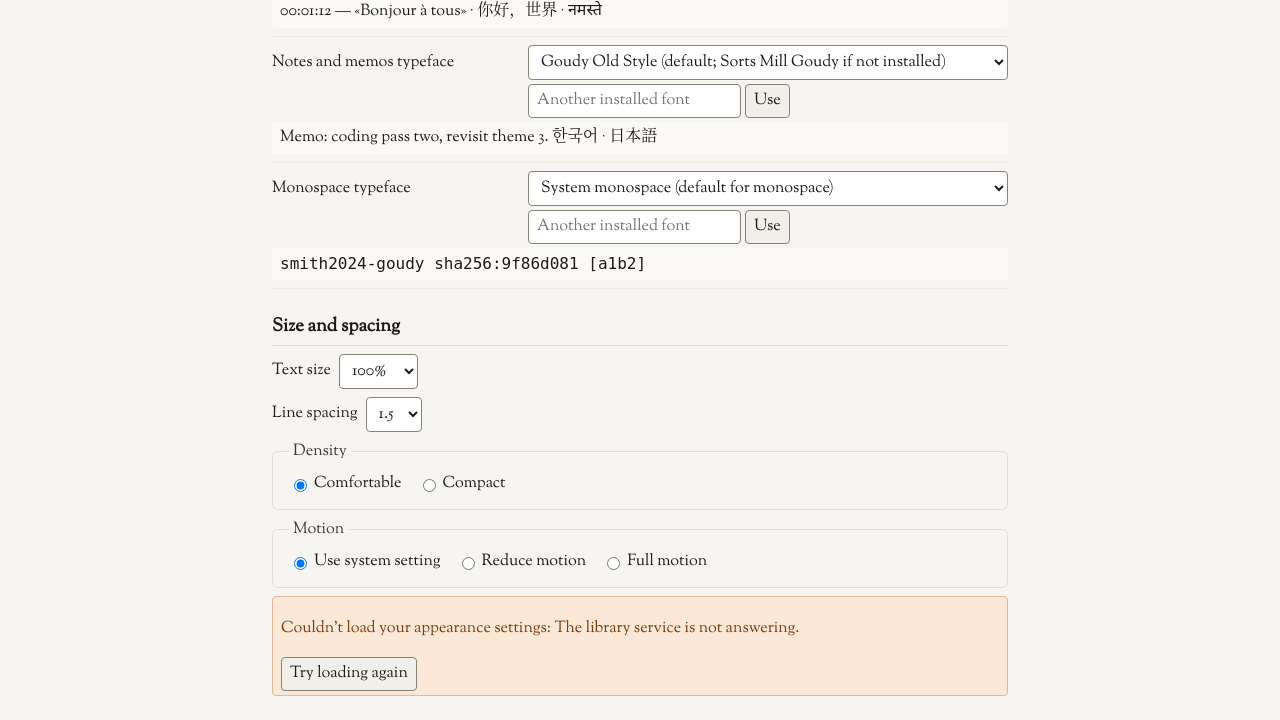
it: Appearance settings screen › a failed load offers to load again, not to save again, and loading again clears it (FR-155)
(page scrolled)
Expected: the message shows "Couldn't load your appearance settings", [281, 617, 799, 640]
Step 1. Click the button "Try loading again" → [349, 674], box [281, 657, 417, 691]
(page scrolled)
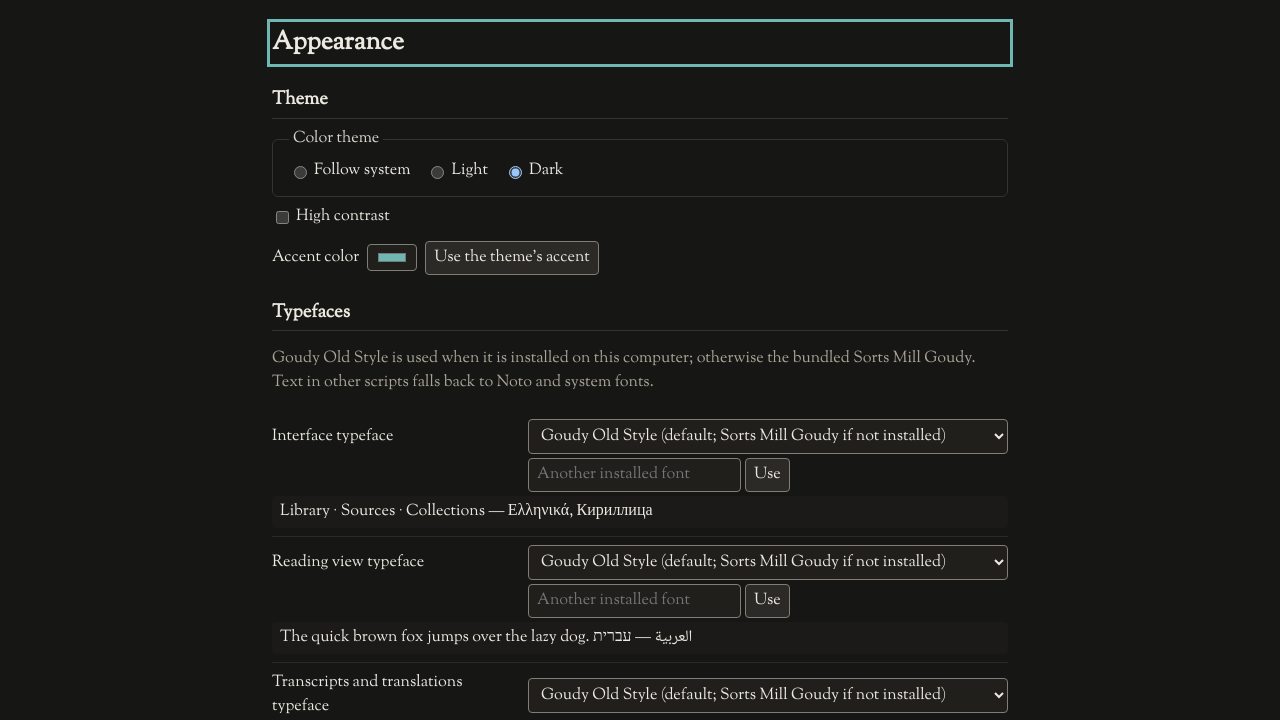
Result: the message is gone
